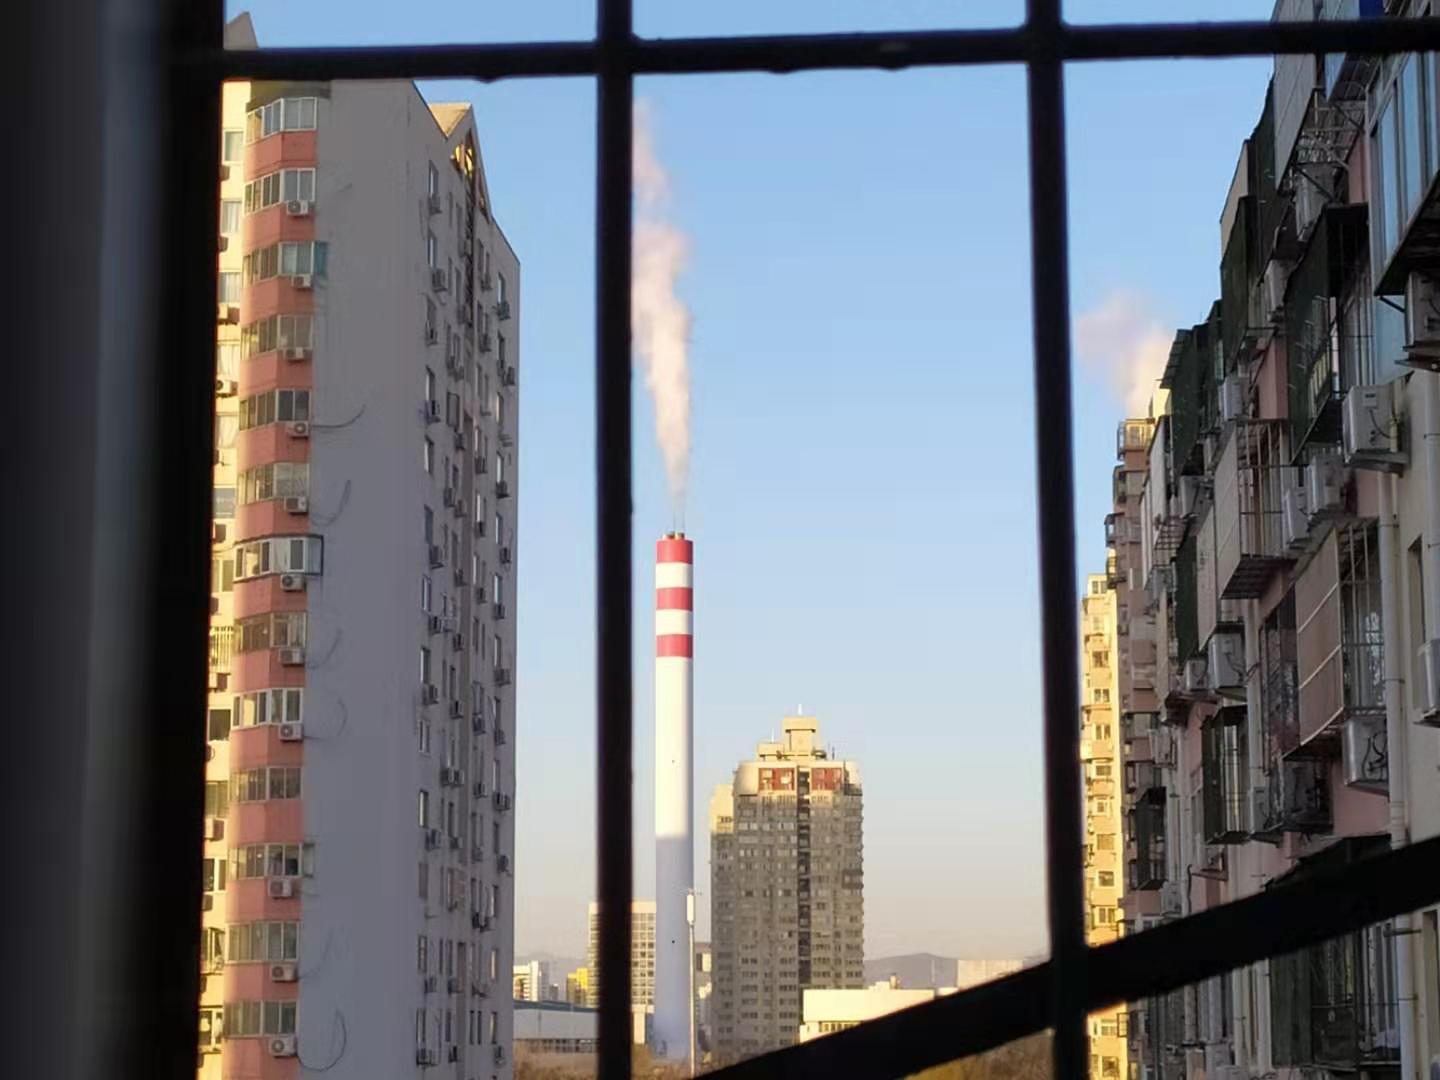yanwu: (624, 135, 698, 520)
